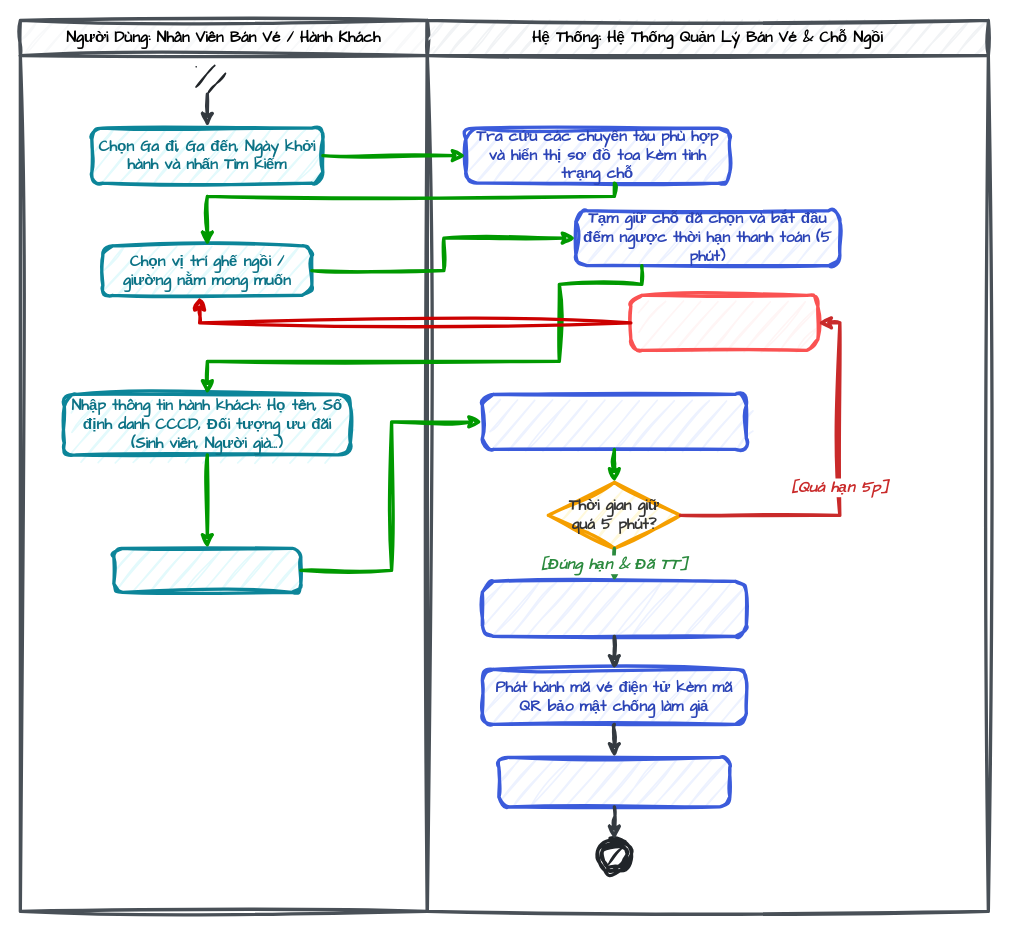
This 1009x932 diagram has some shape labels left out. Each missing label, with the centre of its shape:
Ghi nhận thanh toán thành công và cập nhật trạng thái chỗ sang Đã Bán: the point at 613,608
Hủy giữ chỗ, giải phóng vé về trạng thái còn trống: the point at 724,322
In thẻ lên tàu / Xuất vé điện tử gửi hành khách: the point at 614,781
Tính cước vé theo chặng và áp dụng chính sách giảm giá đối tượng: the point at 613,421
Xác nhận thanh toán vé: the point at 207,569
